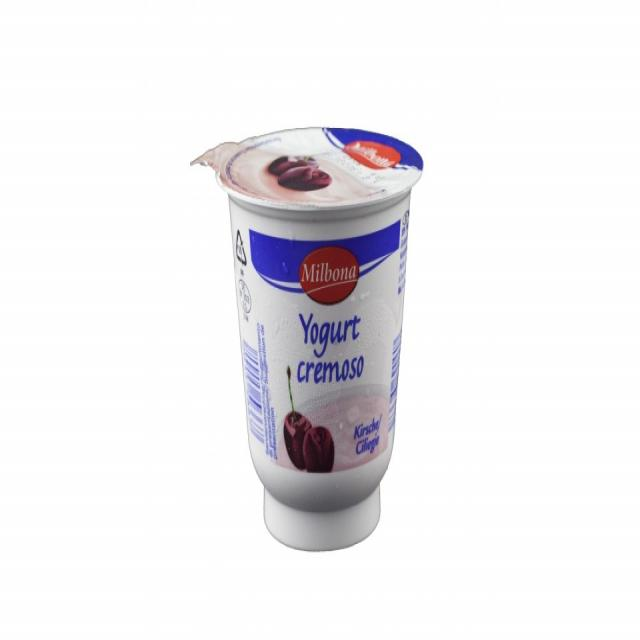yogurt: (189, 125, 424, 552)
